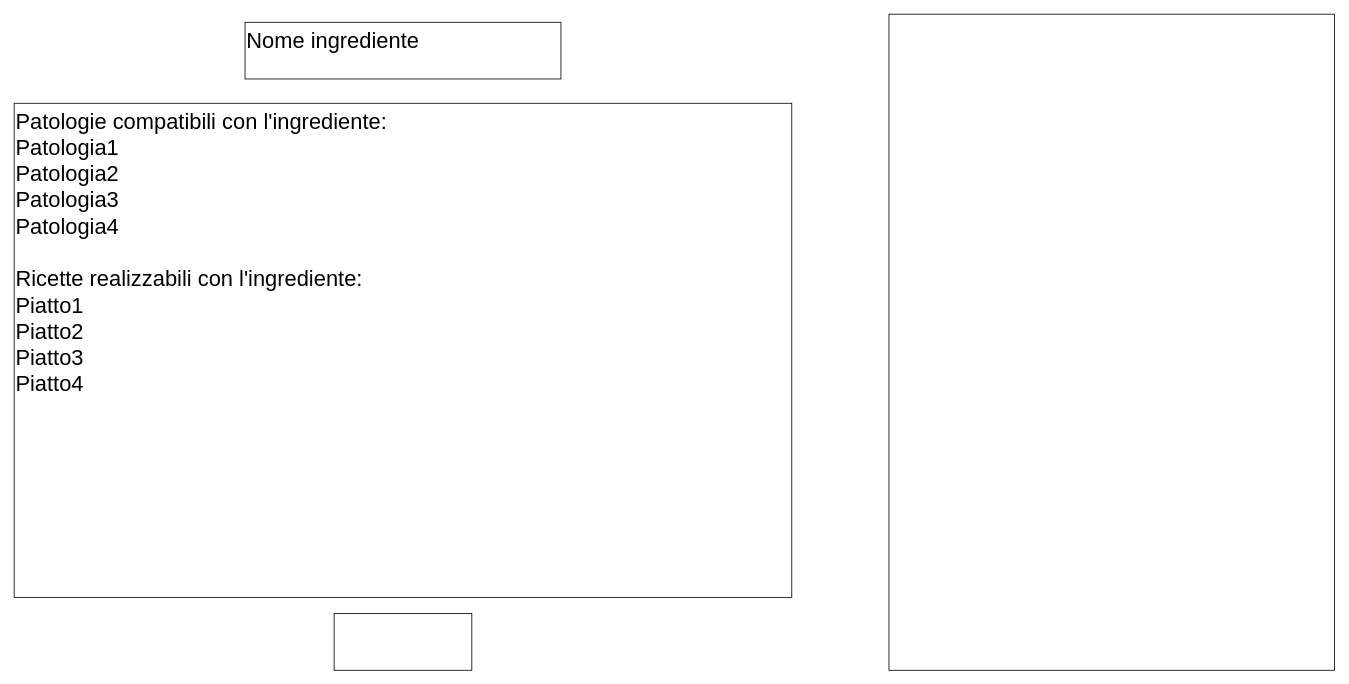
Some shapes in this 1349 by 684 pixel diagram are drawn without their labels. The shapes that lost their labels are listed below. From the top down, each one's centre as x and y in pixels, then its label:
At (1111,341): "Pulsanti interazioni: OK: pulsante che permette di uscire da questo menu".
At (402,641): "OK".
